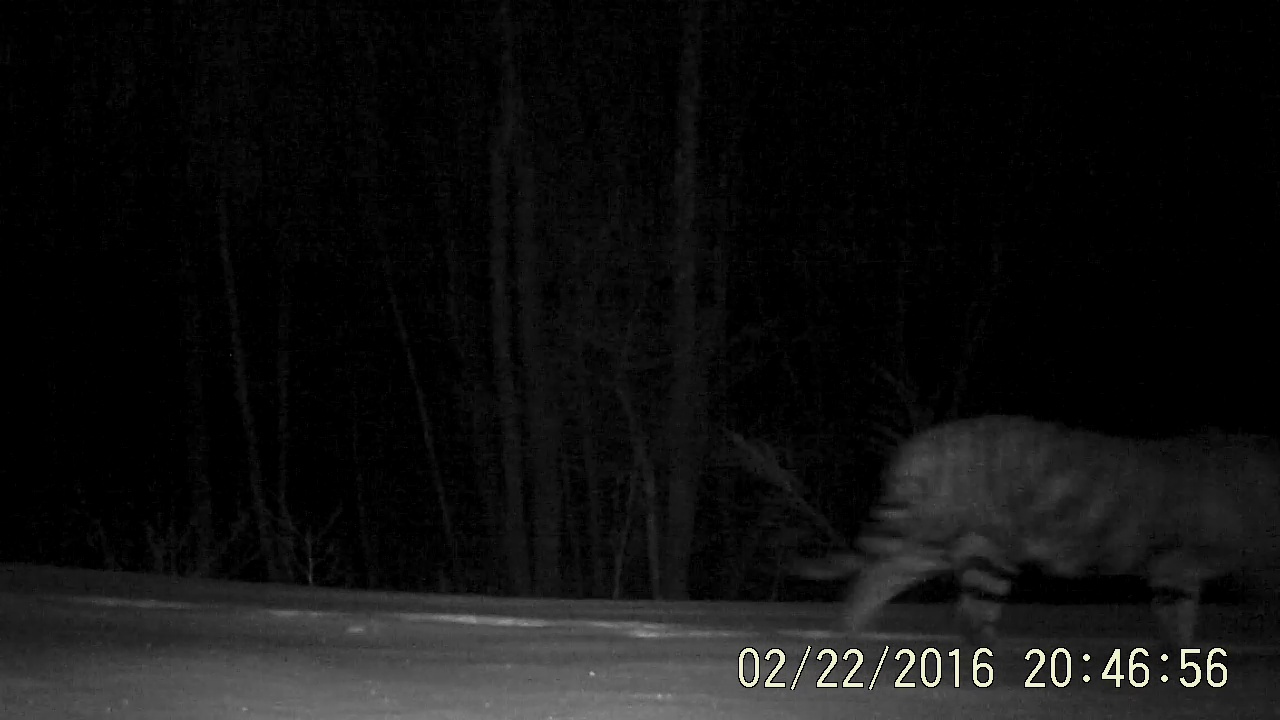Tiger: (768, 333, 1280, 633)
